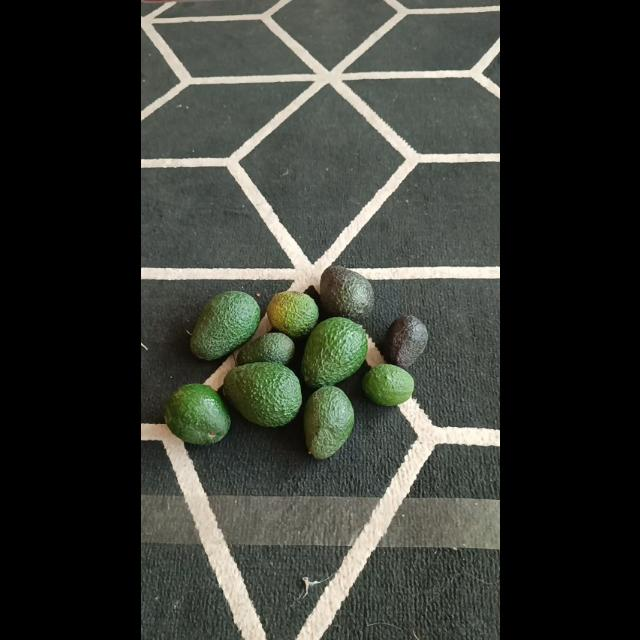Primera: (222, 361, 302, 427), (188, 290, 260, 360), (302, 318, 368, 387), (162, 383, 230, 445)
Segunda: (302, 384, 354, 458), (318, 266, 374, 322), (266, 289, 318, 337)
Tercera: (382, 314, 428, 368), (362, 364, 414, 408), (236, 332, 294, 366)
